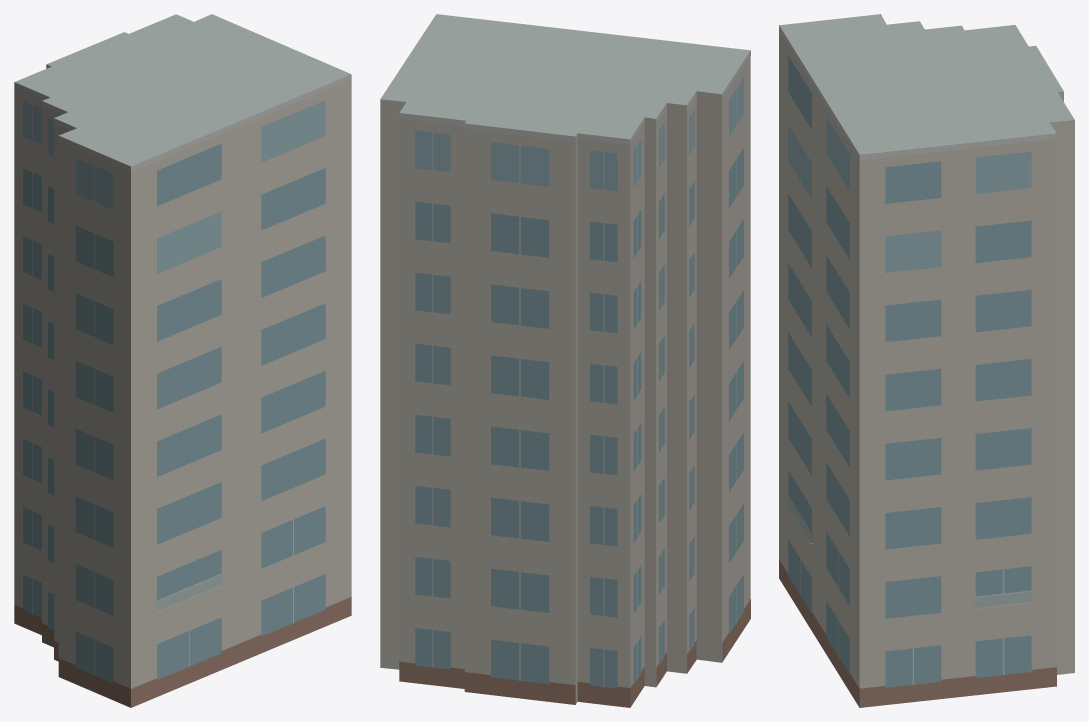
Rendered from survey-upis-32663554.glb.
3 views of the same model, side by side, from view 1: azimuth 30°, elevation 25°; view 2: azimuth 150°, elevation 25°; view 3: azimuth 270°, elevation 25° (orthographic). The views are drawn at different scales.
Parts seen in each view (by area): view 1: survey-upis-32663554.tmp; view 2: survey-upis-32663554.tmp; view 3: survey-upis-32663554.tmp.
Part boxes in pixels (bbox=[...]): survey-upis-32663554.tmp: bbox=[14, 14, 351, 707]; survey-upis-32663554.tmp: bbox=[380, 14, 750, 707]; survey-upis-32663554.tmp: bbox=[779, 14, 1074, 707].
Bounding box in the file's own units: 13.33 × 24.4 × 11.83.
